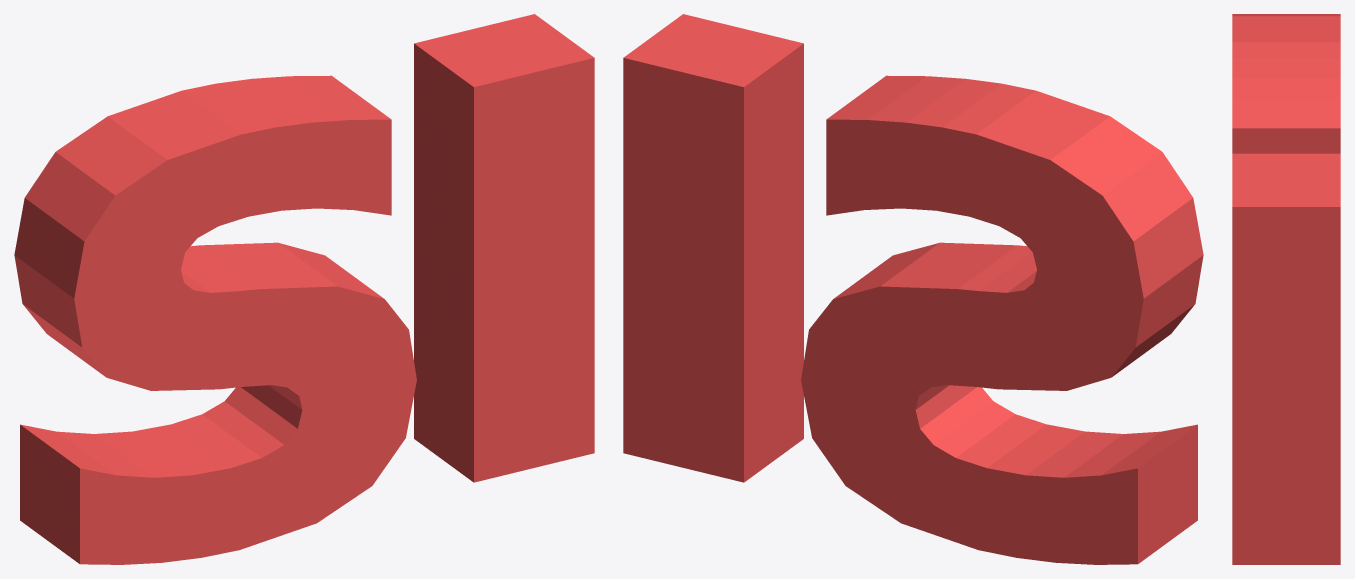
Rendered from suku_kecil_si.glb.
3 views of the same model, side by side, from view 1: azimuth 30°, elevation 25°; view 2: azimuth 150°, elevation 25°; view 3: azimuth 270°, elevation 25° (orthographic). The views are drawn at different scales.
Parts seen in each view (by area): view 1: geometry_0; view 2: geometry_0; view 3: geometry_0.
Boxes of the visible parts, x1=… form: geometry_0: x1=14, y1=14, x2=594, y2=564; geometry_0: x1=623, y1=14, x2=1203, y2=564; geometry_0: x1=1232, y1=14, x2=1340, y2=564.
Size of the model in its own units: 7.53 by 5.74 by 1.5.
